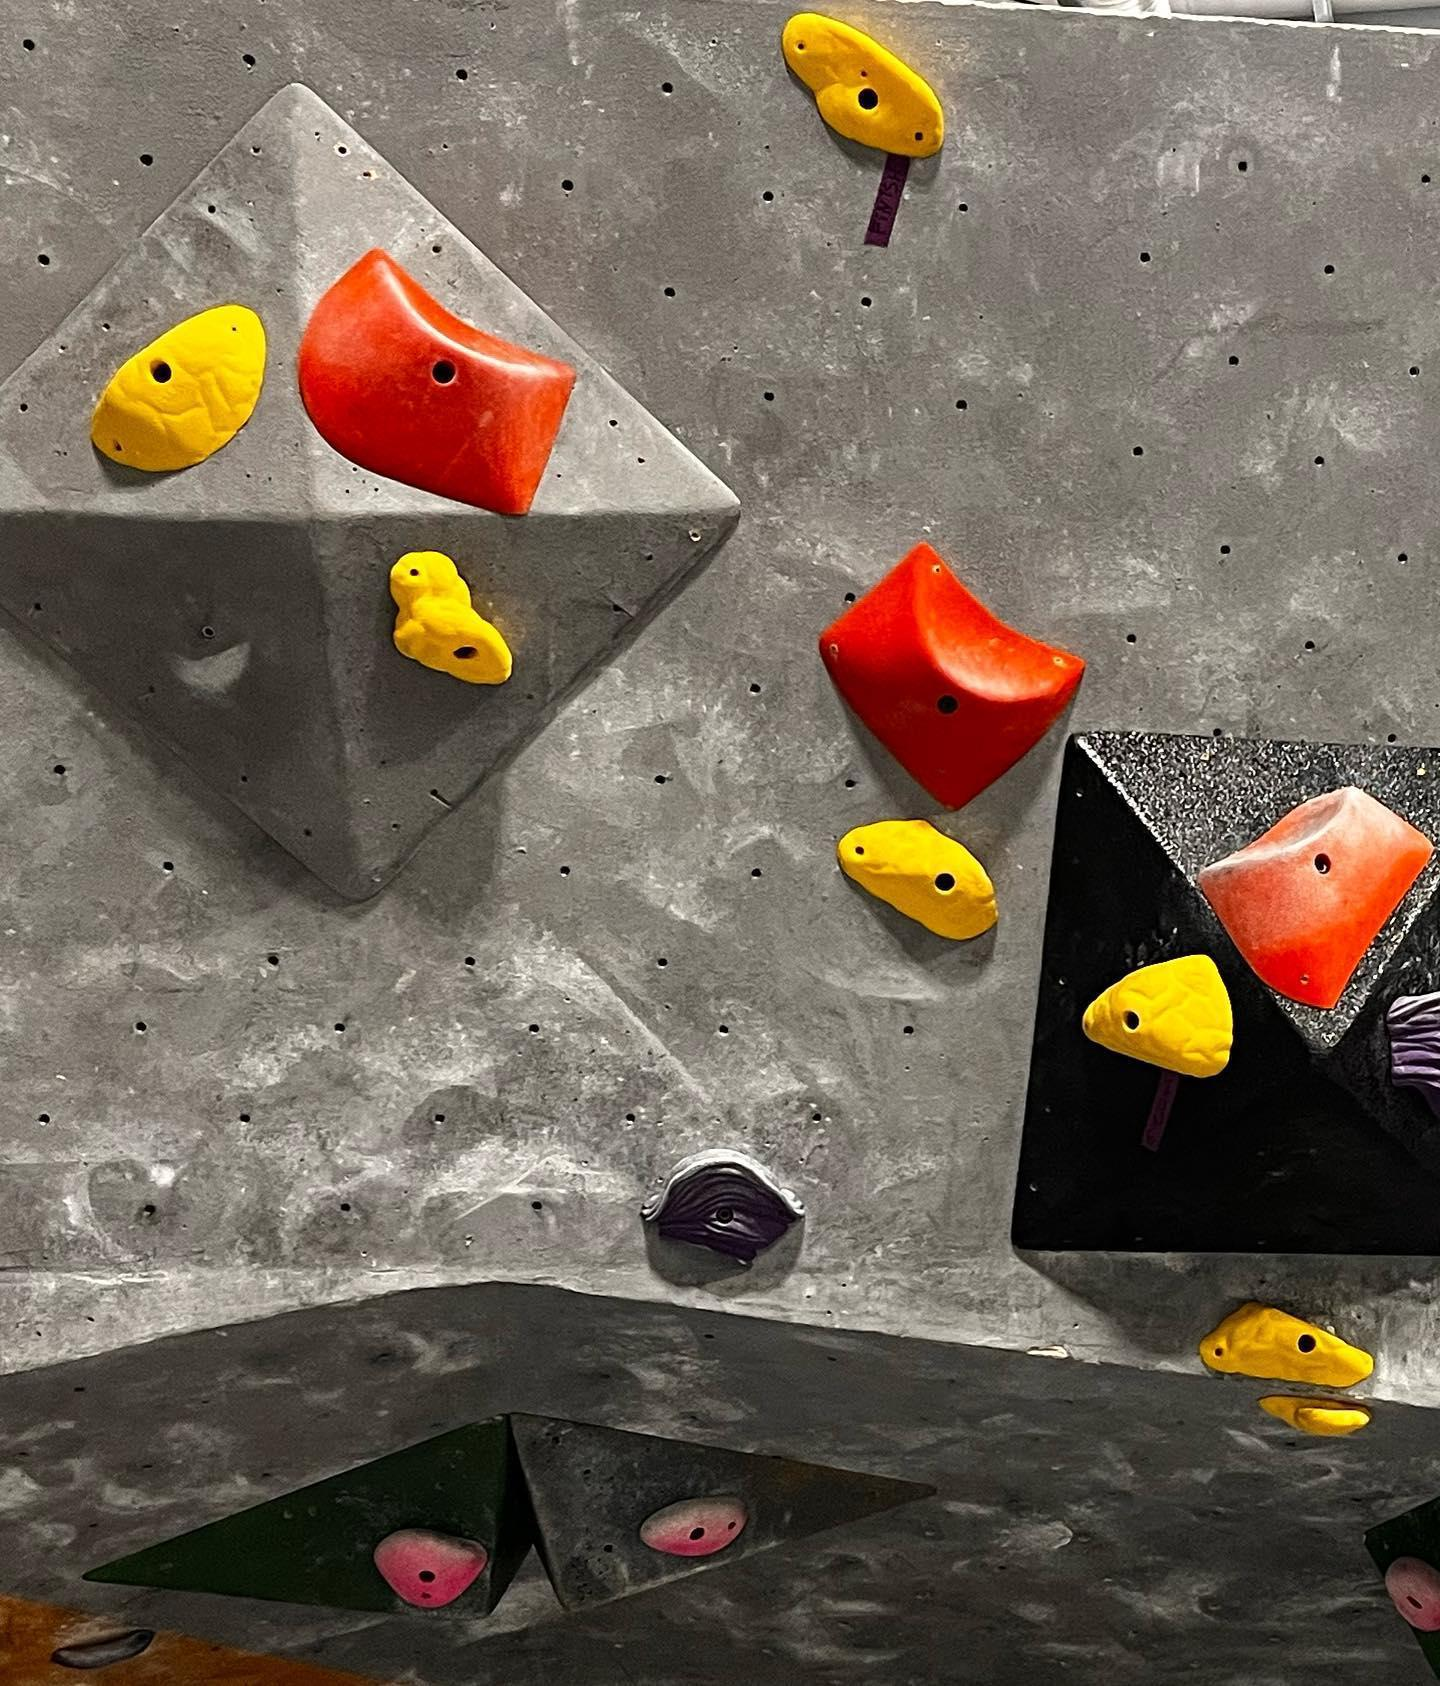hold: (817, 536, 1087, 809), (299, 249, 573, 514), (1199, 787, 1434, 1013), (90, 304, 266, 472), (783, 13, 949, 159), (836, 819, 1000, 943), (643, 1147, 807, 1267), (1083, 953, 1233, 1079), (390, 550, 516, 684), (1200, 1300, 1374, 1387), (374, 1529, 489, 1609), (633, 1493, 750, 1556), (1383, 989, 1440, 1117), (1256, 1395, 1374, 1436), (51, 1629, 157, 1670), (1384, 1555, 1440, 1630)
volume: (1017, 734, 1440, 1259), (70, 1417, 534, 1617), (510, 1409, 950, 1615), (1366, 1489, 1440, 1680)
